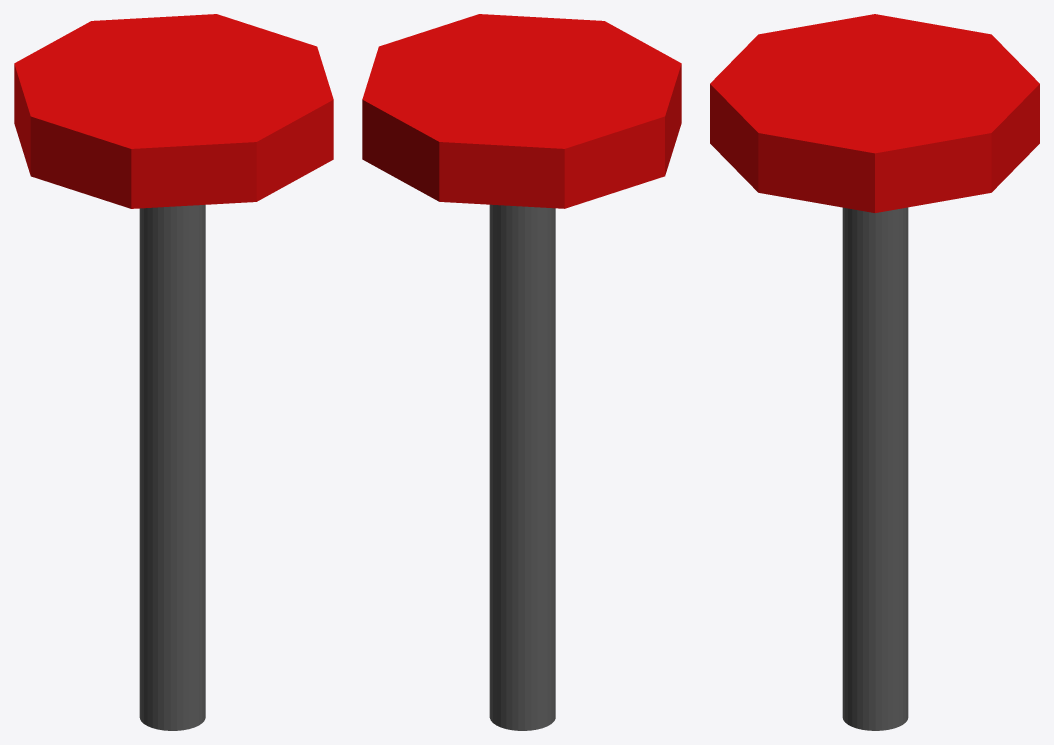
File: stopSign.fbx
3 views of the same model, side by side, from view 1: azimuth 30°, elevation 25°; view 2: azimuth 150°, elevation 25°; view 3: azimuth 270°, elevation 25° (orthographic).
Parts seen in each view (by area): view 1: Cylinder.001, Cylinder; view 2: Cylinder.001, Cylinder; view 3: Cylinder.001, Cylinder.
Boxes of the visible parts, x1,y1,x2,y2 form: Cylinder.001: (14,14,333,208); Cylinder: (139,205,205,730); Cylinder.001: (362,14,681,208); Cylinder: (489,204,555,730); Cylinder.001: (710,14,1039,212); Cylinder: (842,207,908,730).
Bounding box in the file's own units: 50 × 106 × 50.
